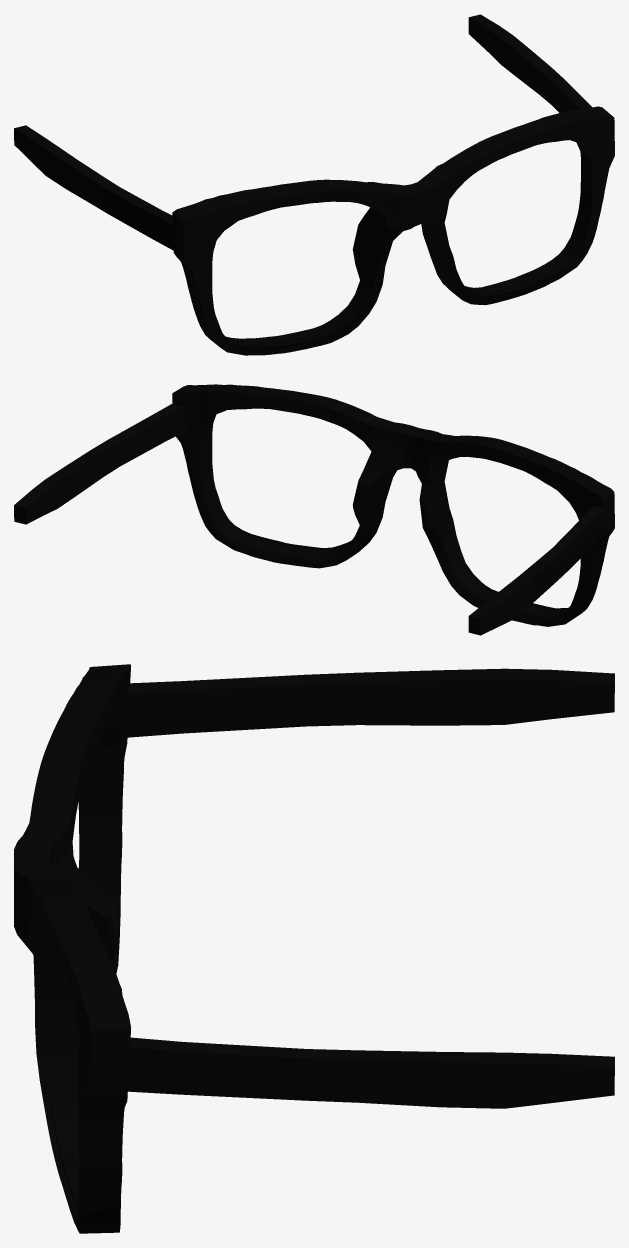
Rendered from frame.obj.
3 views of the same model, one above another, from view 1: azimuth 30°, elevation 25°; view 2: azimuth 150°, elevation 25°; view 3: azimuth 270°, elevation 25° (orthographic). The views are drawn at different scales.
Visible parts, largest first — view 1: Cube.004; view 2: Cube.004; view 3: Cube.004.
Boxes of the visible parts, x1,y1,x2,y2 form: Cube.004: (14,14,614,355); Cube.004: (14,384,614,635); Cube.004: (14,664,614,1233).
Size of the model in its own units: 0.156 by 0.0518 by 0.1005.
1 material, 1 textured.
